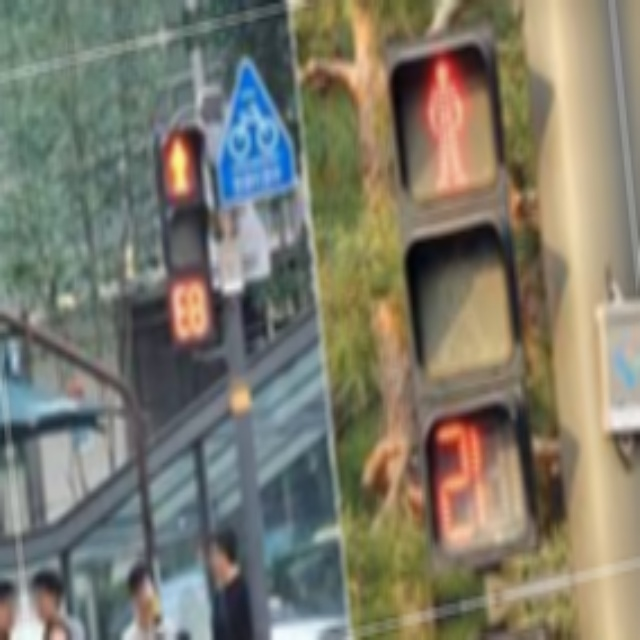red_light: (427, 420, 498, 561), (417, 52, 480, 195), (169, 275, 211, 345), (162, 133, 195, 201)
